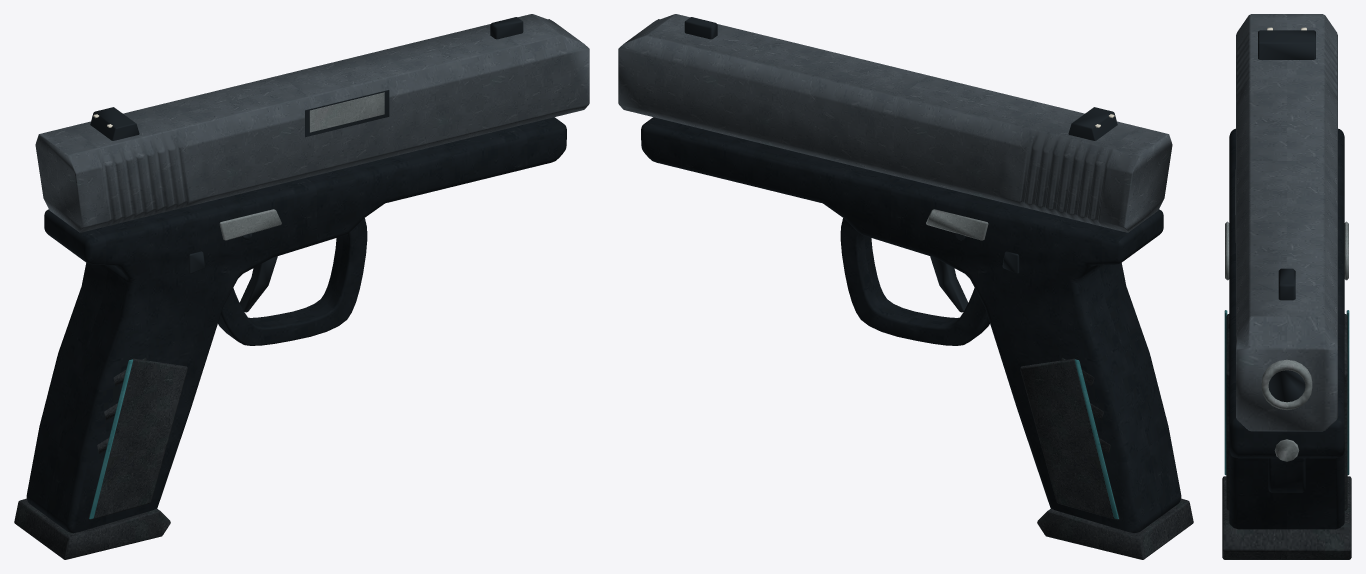
The model's file is pistol_core.glb.
3 renders of one model, left to right at view 1: azimuth 30°, elevation 25°; view 2: azimuth 150°, elevation 25°; view 3: azimuth 270°, elevation 25°, orthographic. The views are drawn at different scales.
Parts seen in each view (by area): view 1: Pistol_Body, Pistol_Slide, Pistol_Magazine_Art; view 2: Pistol_Body, Pistol_Slide, Pistol_Magazine_Art; view 3: Pistol_Slide, Pistol_Body, Pistol_Magazine_Art.
Part boxes in pixels (<box>): Pistol_Body: <box>26,17,566,532</box>; Pistol_Slide: <box>35,14,589,232</box>; Pistol_Magazine_Art: <box>14,498,170,559</box>; Pistol_Body: <box>641,17,1181,532</box>; Pistol_Slide: <box>618,14,1172,232</box>; Pistol_Magazine_Art: <box>1037,498,1193,559</box>; Pistol_Slide: <box>1236,14,1337,431</box>; Pistol_Body: <box>1224,27,1349,529</box>; Pistol_Magazine_Art: <box>1222,476,1351,559</box>.
Size of the model in its own units: 0.2298 by 0.166 by 0.038.
7 materials, 5 textured.
